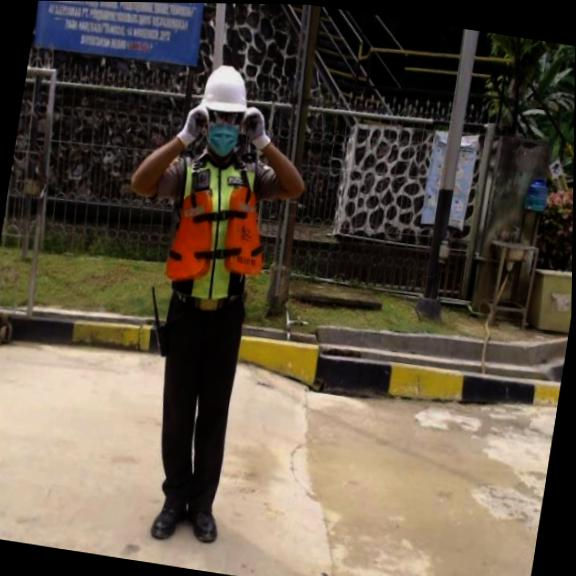safety_vest: (161, 174, 277, 298)
